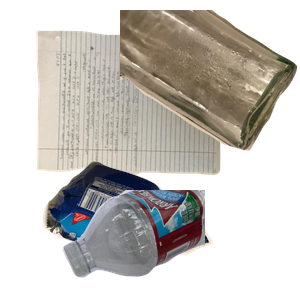glass: (120, 10, 300, 153)
paper: (32, 28, 249, 196)
plastic: (60, 190, 300, 280)
trash: (40, 158, 245, 300)
